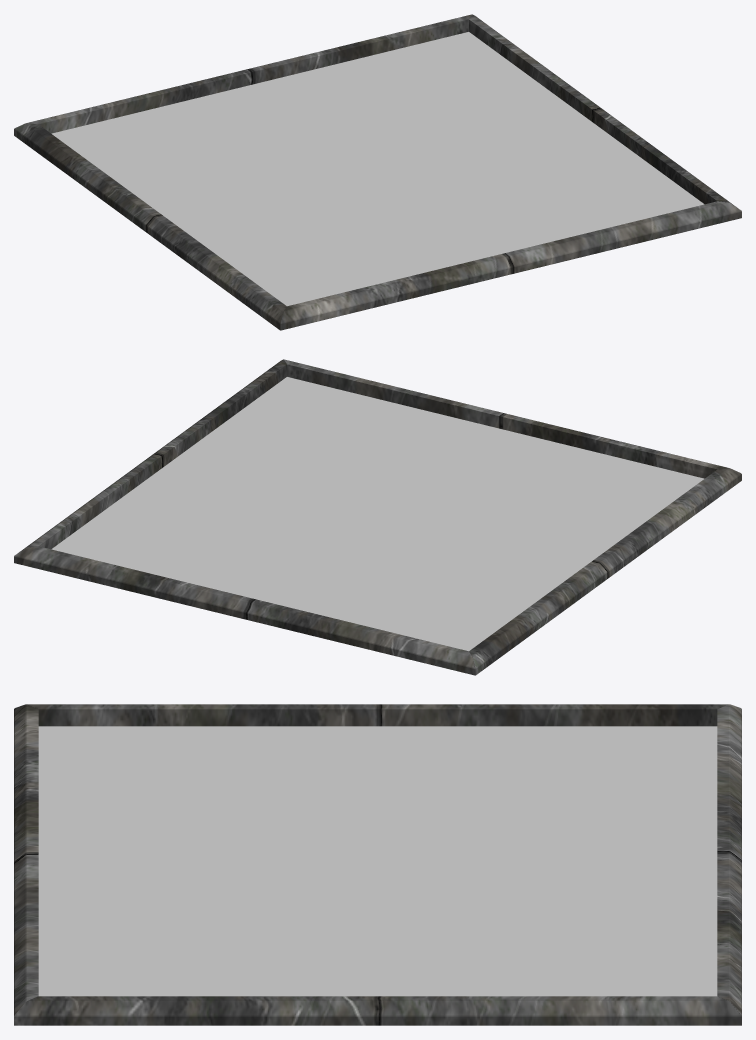
The model's file is stct_WH_Z1_floor_caution.fbx.
The picture shows the model from 3 angles, top to bottom: view 1: azimuth 30°, elevation 25°; view 2: azimuth 150°, elevation 25°; view 3: azimuth 270°, elevation 25°; orthographic projection. The views are drawn at different scales.
Parts seen in each view (by area): view 1: polySurface1, polySurface10; view 2: polySurface1, polySurface10; view 3: polySurface1, polySurface10.
Boxes of the visible parts, x1,y1,x2,y2 form: polySurface1: (51, 32, 704, 306); polySurface10: (14, 14, 741, 330); polySurface1: (51, 377, 704, 651); polySurface10: (14, 359, 741, 675); polySurface1: (38, 726, 717, 996); polySurface10: (14, 704, 741, 1025).
Bounding box in the file's own units: 62.1 × 1.8 × 62.1.
